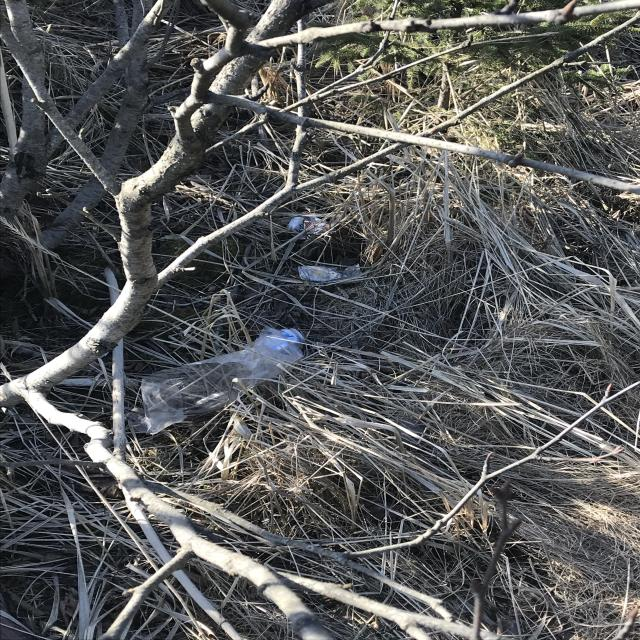litter: (143, 328, 303, 434), (243, 328, 306, 363), (285, 213, 336, 240), (298, 263, 361, 283)
